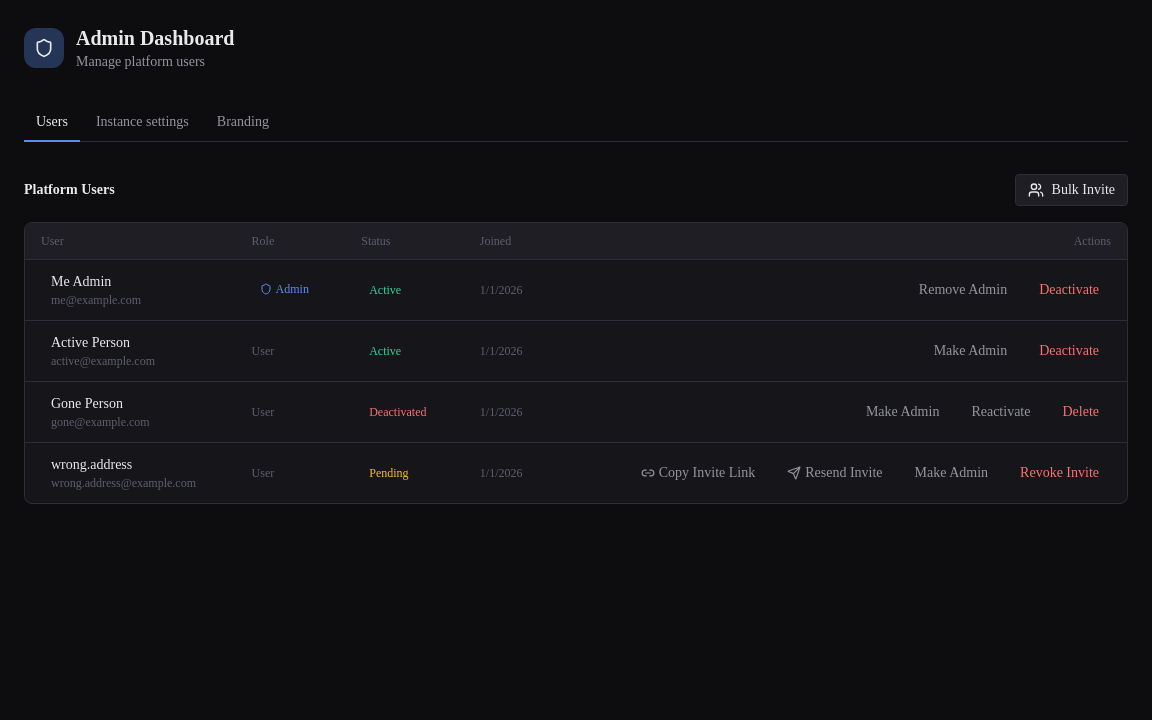
Scenario: Admin users: Revoke invite › revokes the invite by deleting the pending user
The width and height of the screenshot is (1152, 720).
Click the button "Revoke Invite".
click(1060, 473)  # box x1=1008 y1=457 x2=1111 y2=489
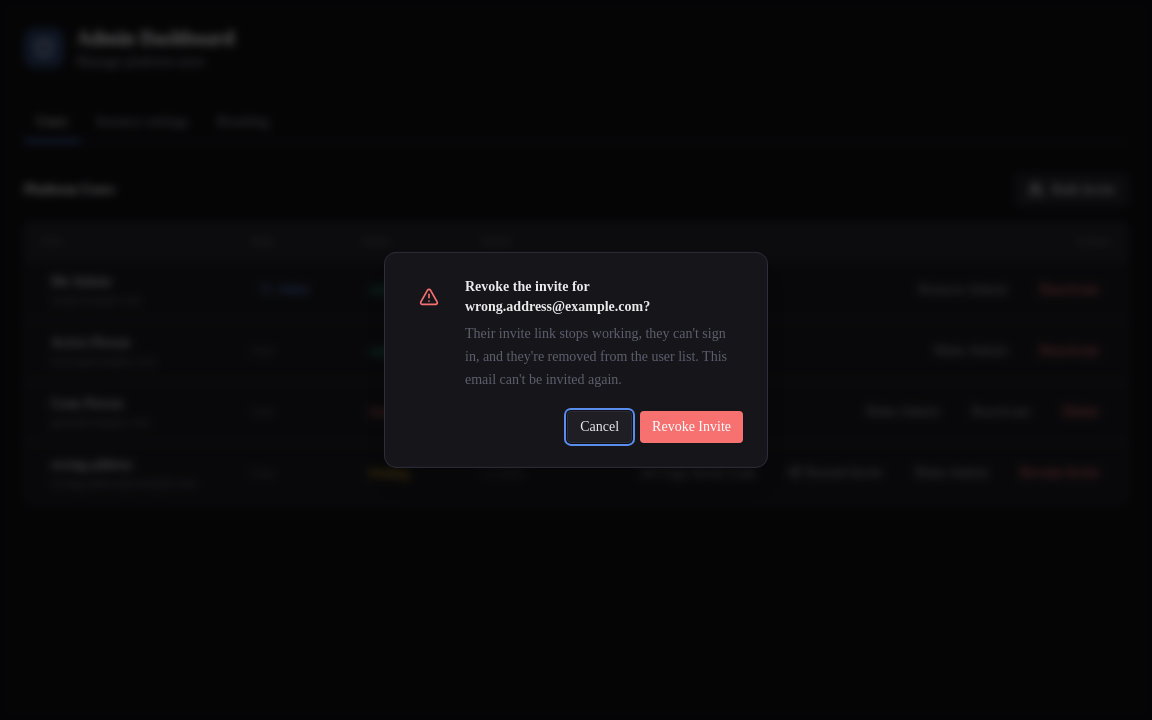
Check: the heading "Revoke the invite for wrong.address@example.com?" is shown, box x1=465 y1=279 x2=650 y2=314
Click the button "Revoke Invite".
click(692, 427)  # box x1=640 y1=411 x2=743 y2=443
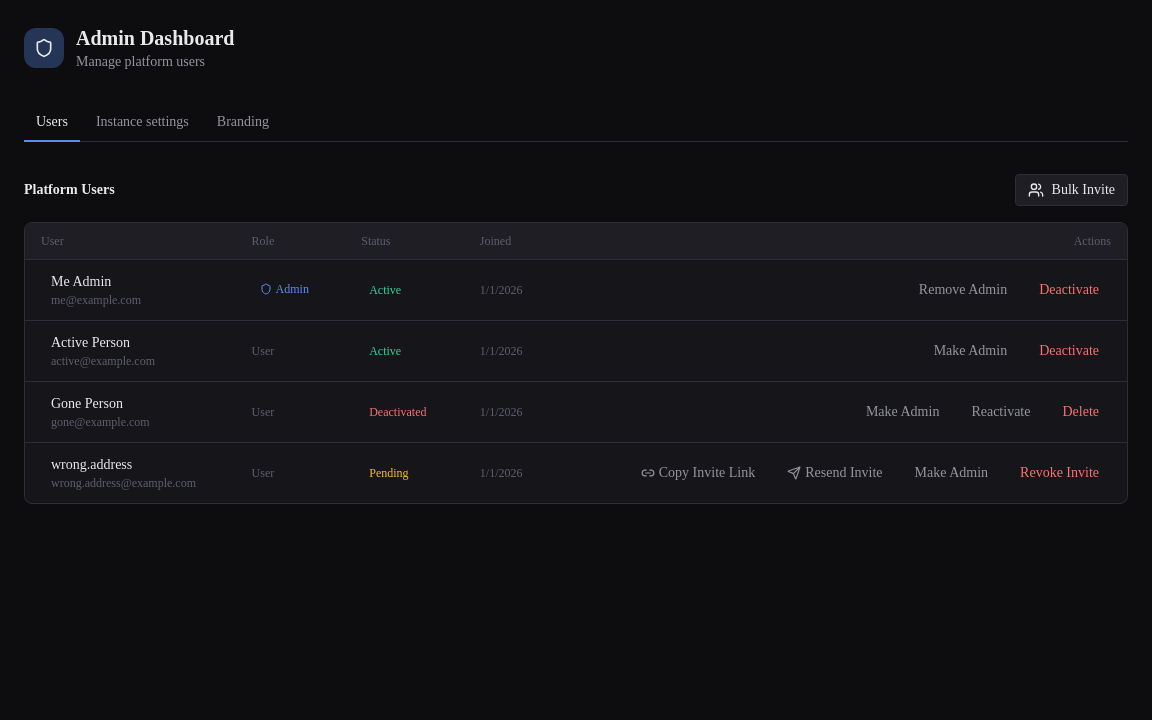
Check: the dialog is gone
